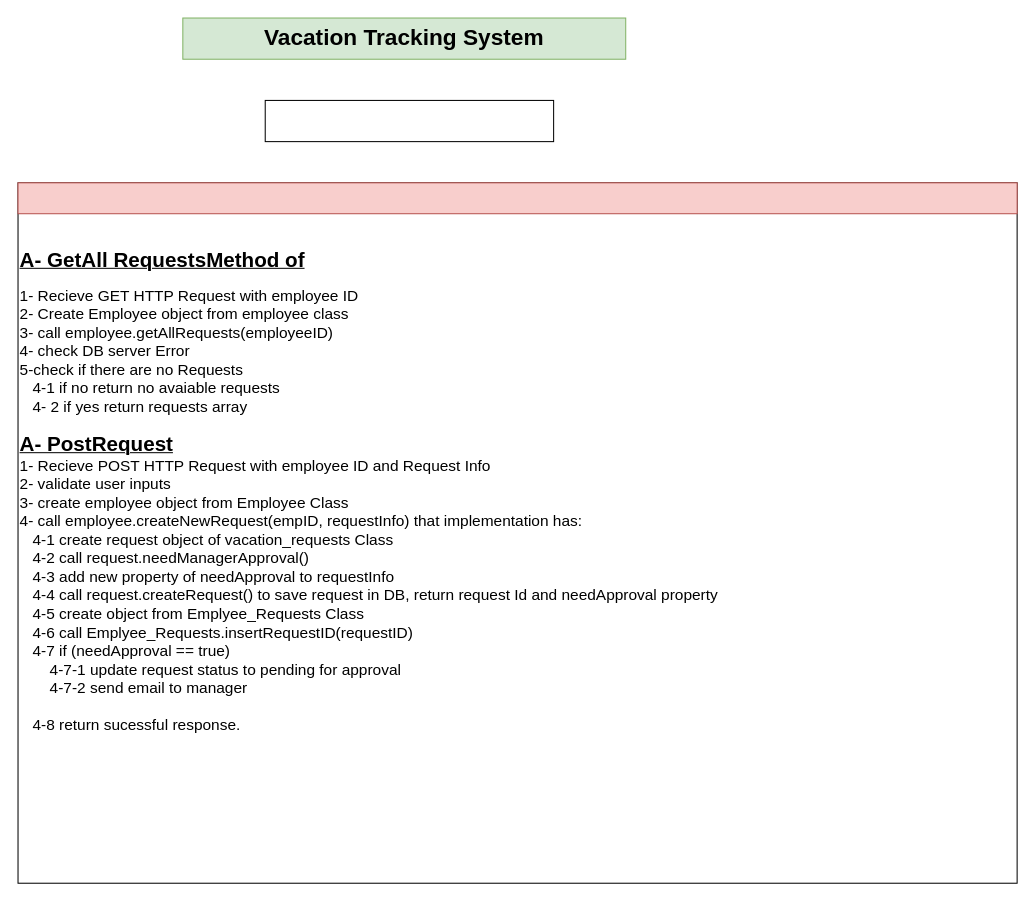
The diagram is 1035 pixels wide and 901 high, and some of its shapes have lost their labels. The shapes that lost their labels are listed below. From the top down, each one's centre as x and y in pixels, then its label:
At [409,120]: "Manage Time Use Case".
At [517,198]: "PseudoCode".
